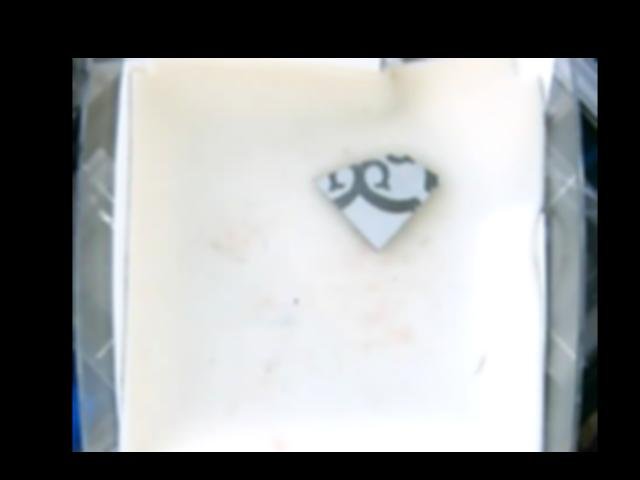China: (314, 149, 440, 250)
